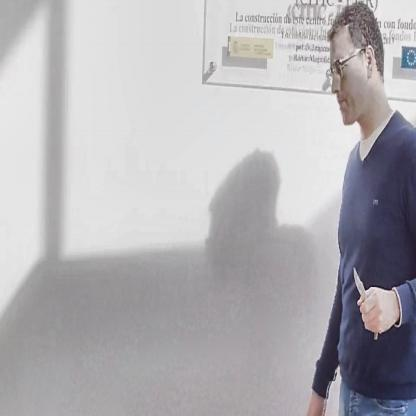knife: (350, 259, 381, 342)
